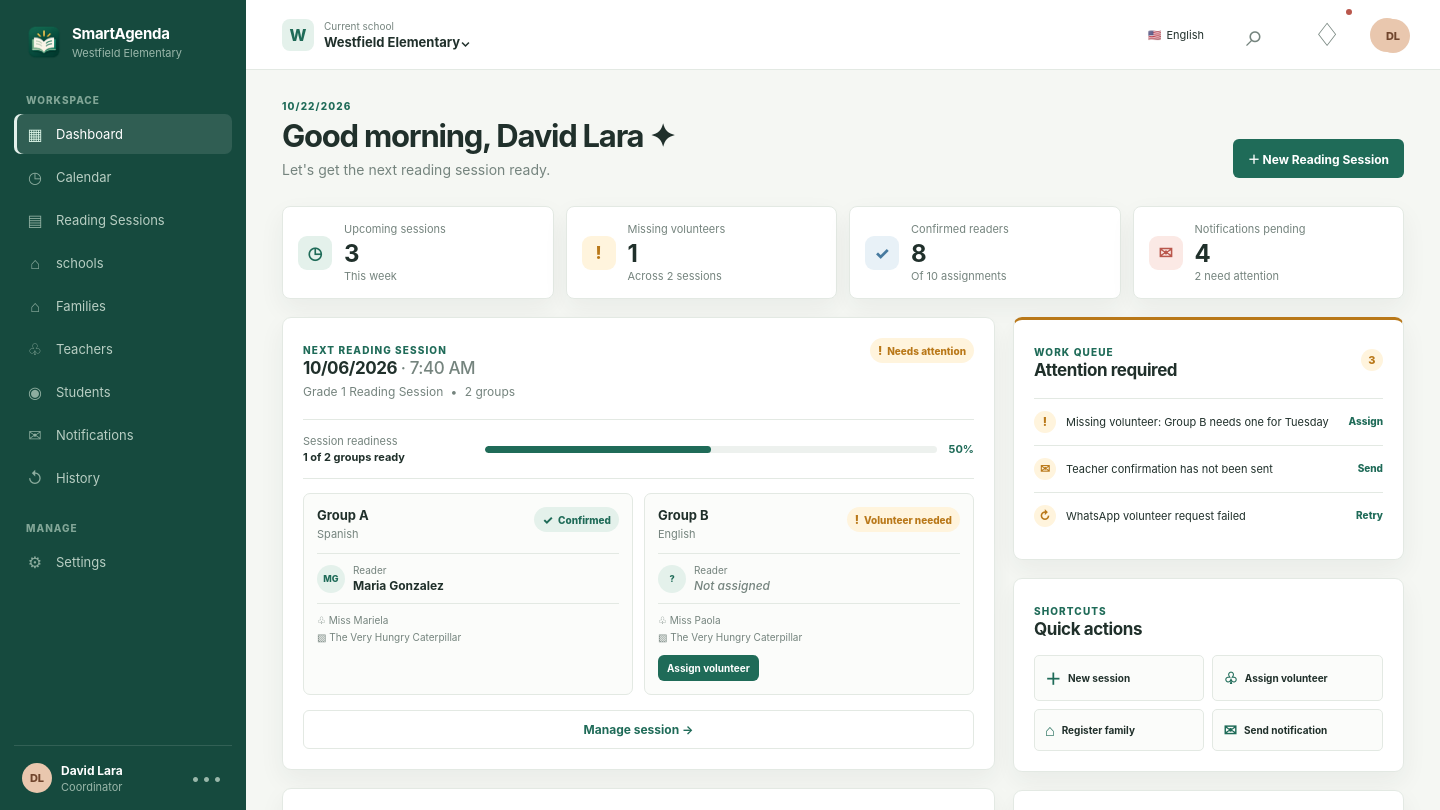
it: keeps school and user profile navigation independent
The width and height of the screenshot is (1440, 810).
Click the button named "Edit School Profile".
click(298, 34)  # box [282,18,314,50]
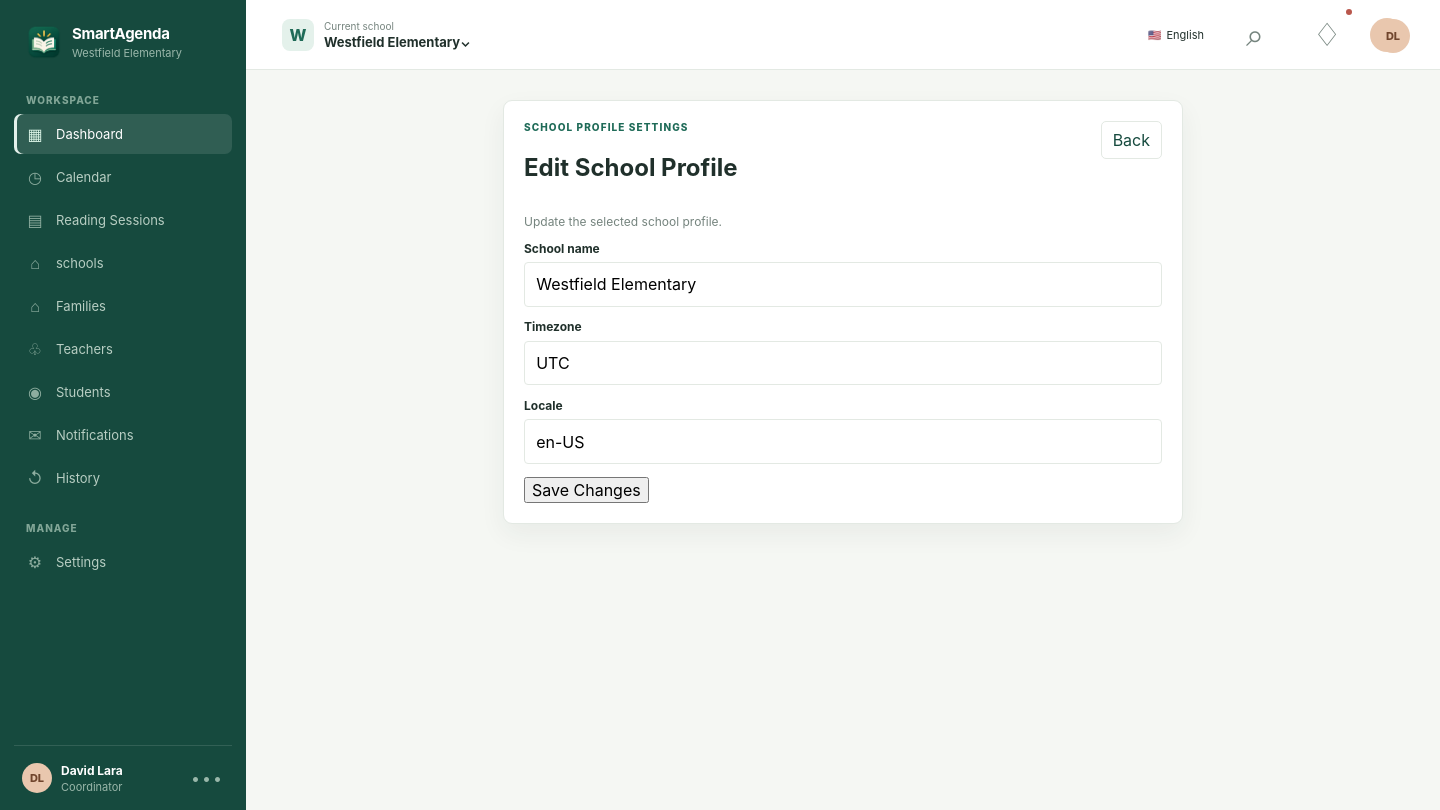
Result: the heading "Edit School Profile" is shown at [524,153,738,182]
Click the button "Back".
click(1131, 140)  # box [1101,121,1162,159]
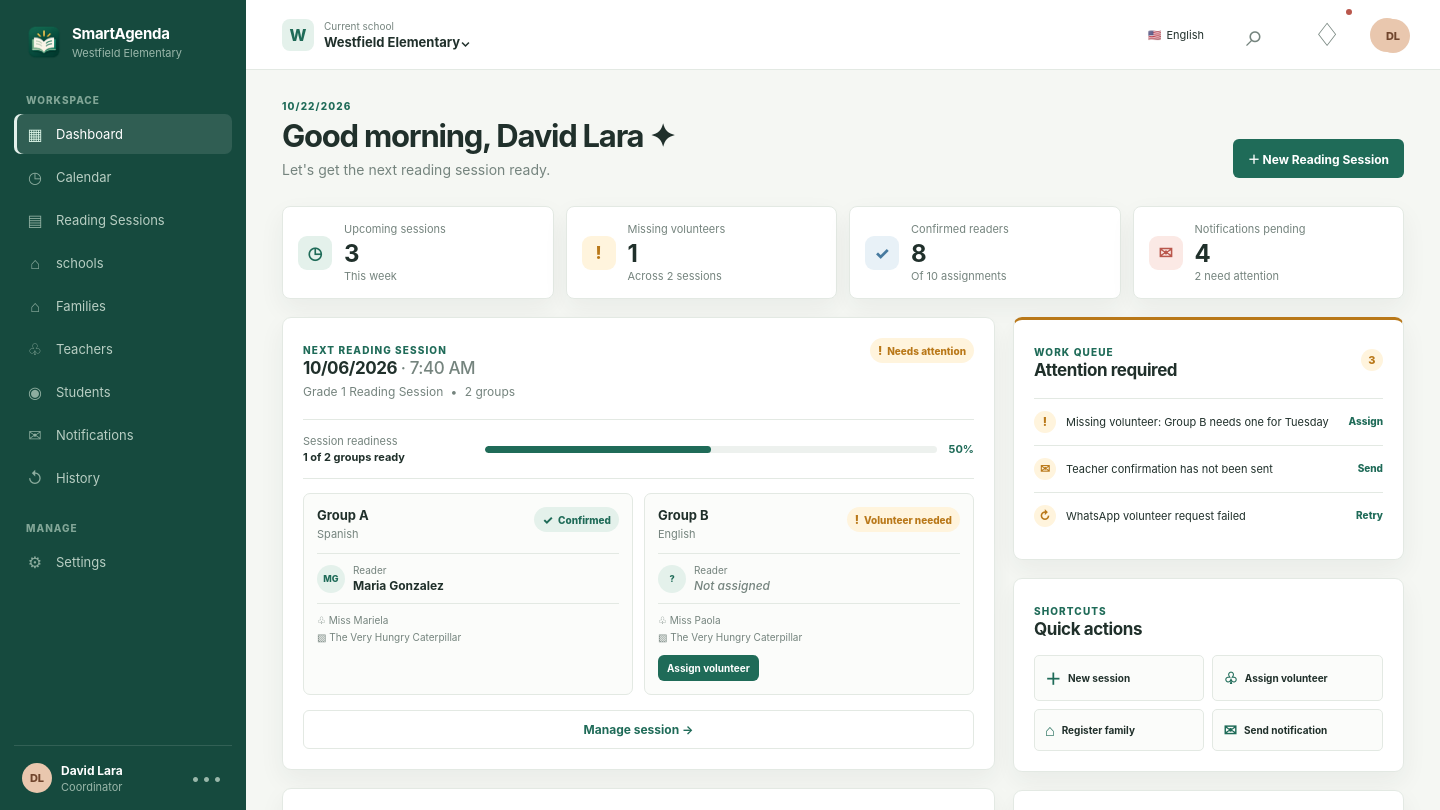
Click the button with aria-label "Edit Profile".
click(1387, 34)  # box [1370,18,1404,52]
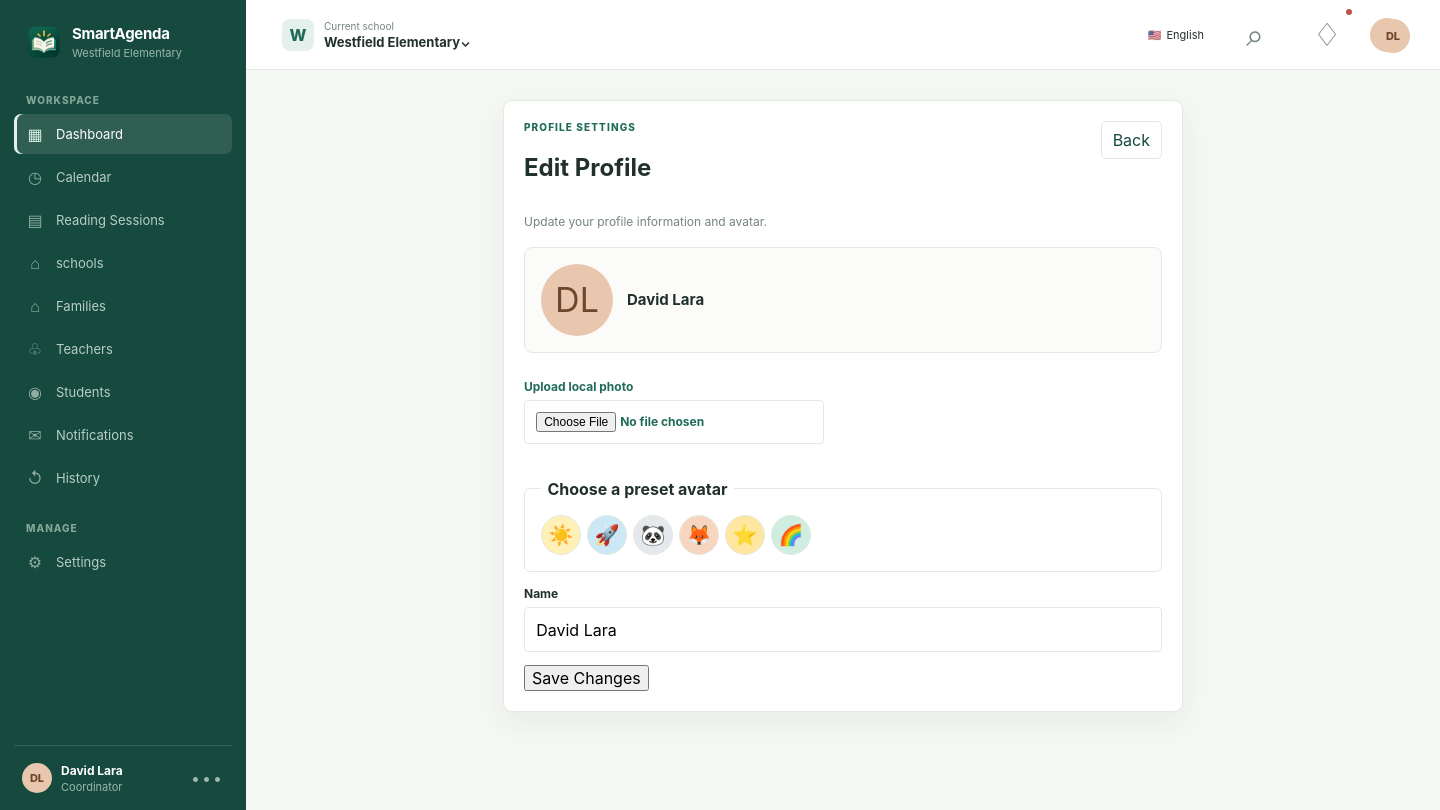
Result: the heading "Edit Profile" is shown at [524,153,651,182]
